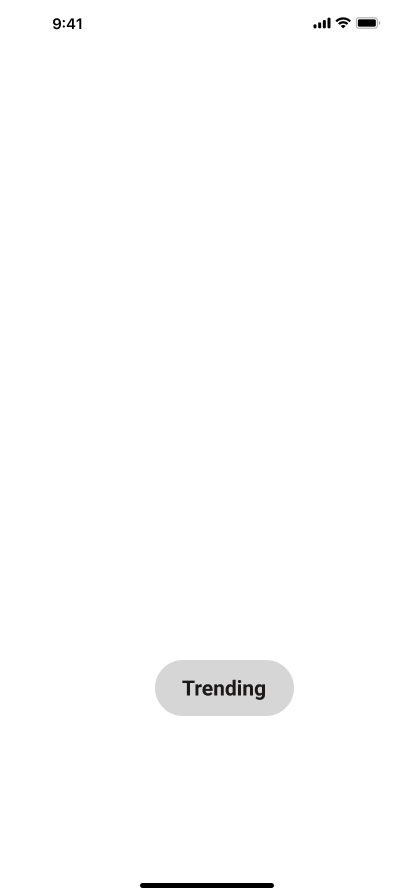Buttons: (155, 660, 302, 716)
Home Indicator: (0, 862, 414, 896)
Status Bar: (0, 0, 414, 44)
